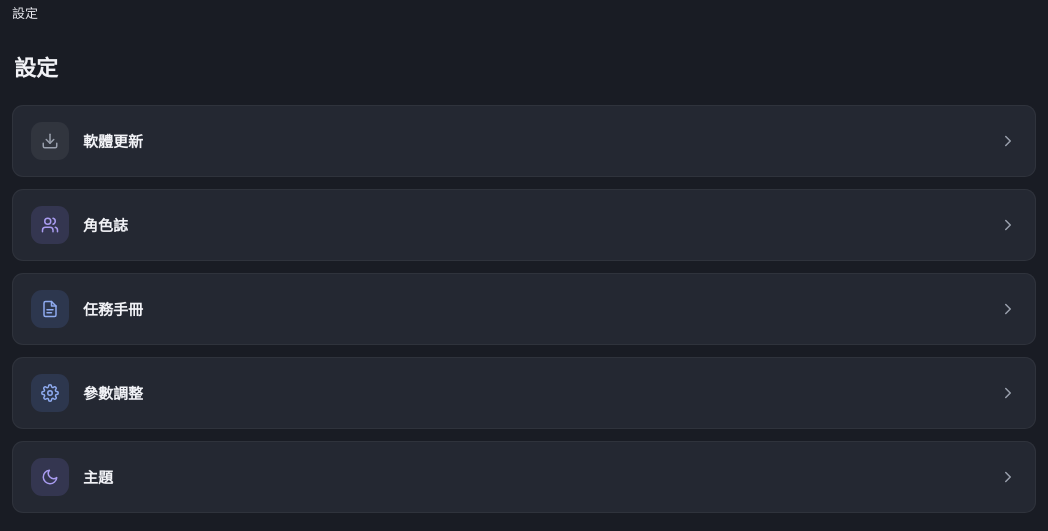
Test: SettingsPage · 軟體更新 · 自動更新存檔回讀 (存檔測連通) › a rejected write reads back as fail: 失敗 line + the switch stays put, never the success line
Click the button "軟體更新": (50, 140) [12,104,1036,176]
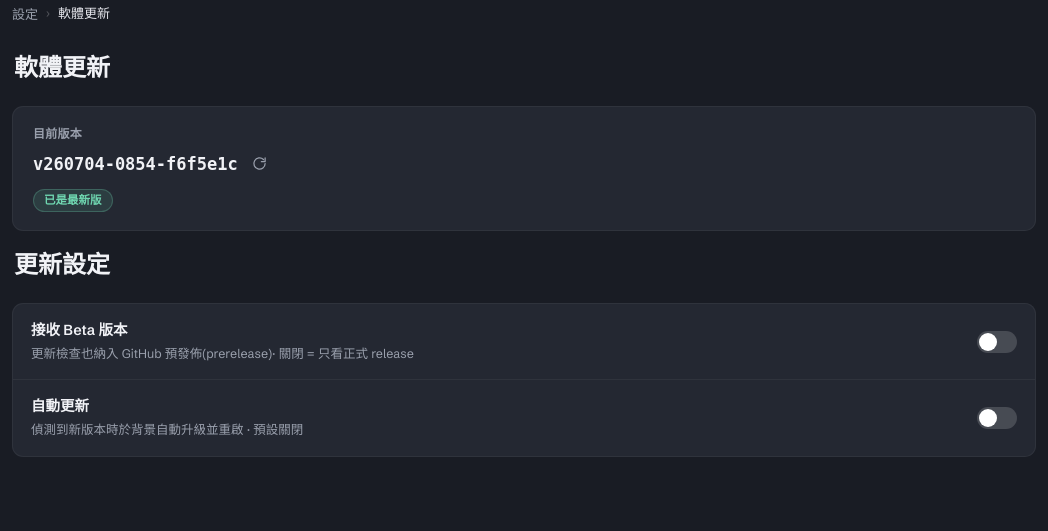
Expected: the switch with test id "settings-auto-update" is shown
Click the switch with test id "settings-auto-update": (997, 418) [977,407,1017,429]
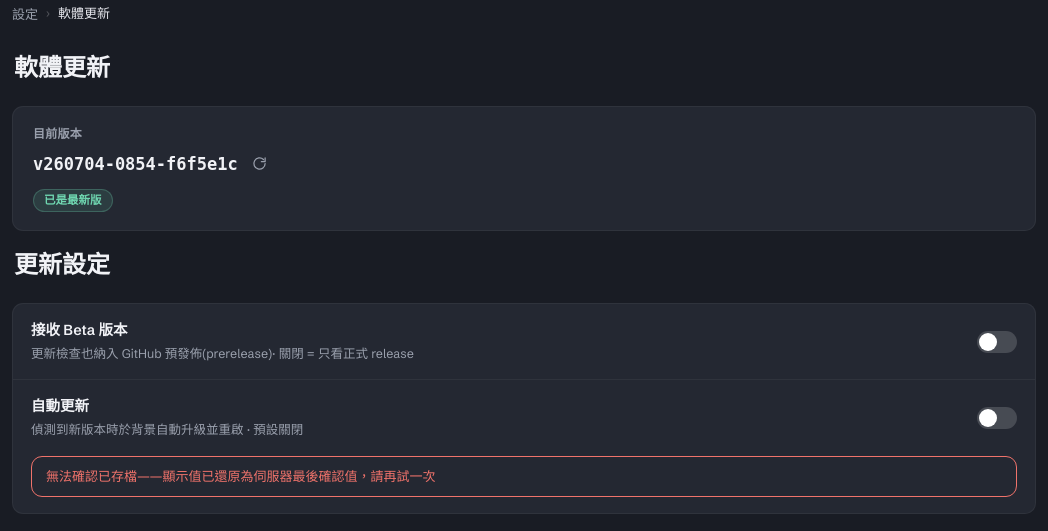
Expected: the text "無法確認已存檔——顯示值已還原為伺服器最後確認值，請再試一次" is shown, [31,456,1017,497]
